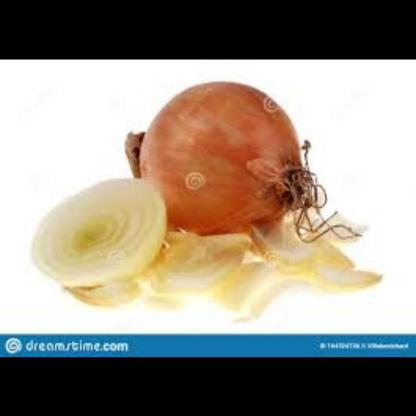onion: (128, 77, 321, 238), (162, 222, 370, 317), (30, 172, 177, 306)
